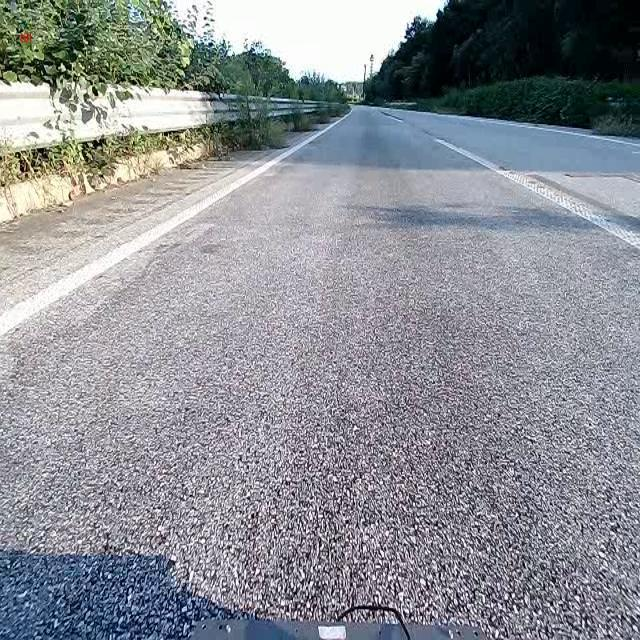Lane: (0, 110, 344, 336), (0, 119, 341, 337), (432, 128, 640, 254), (436, 138, 639, 249)
